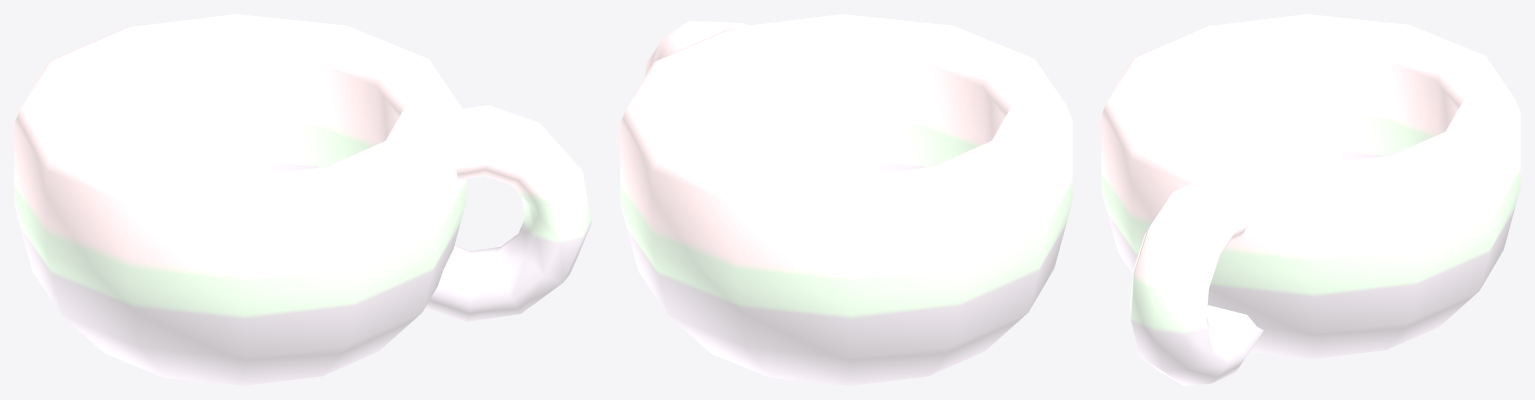
File: cup.gltf
3 views of the same model, side by side, from view 1: azimuth 30°, elevation 25°; view 2: azimuth 150°, elevation 25°; view 3: azimuth 270°, elevation 25° (orthographic). The views are drawn at different scales.
Visible parts, largest first — view 1: cup; view 2: cup; view 3: cup.
Part boxes in pixels (x1,y1,x2,y2): cup: (14, 14, 591, 385); cup: (620, 14, 1072, 385); cup: (1101, 14, 1520, 385).
Bounding box in the file's own units: 0.2092 × 0.1007 × 0.1748.
1 material, 1 textured.
